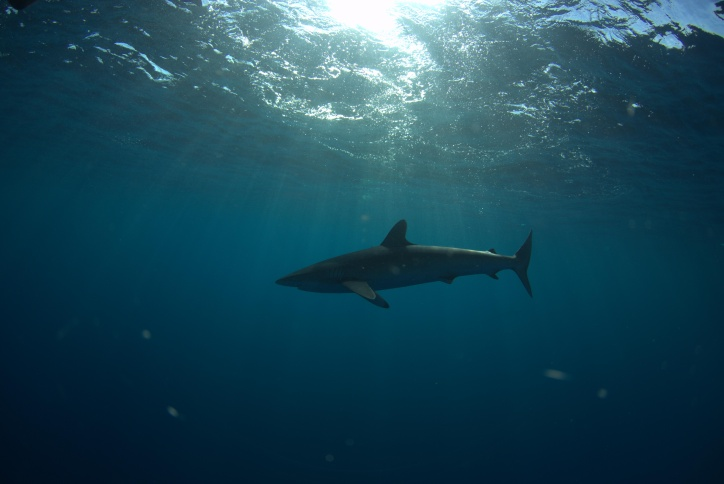Sedoso: (266, 216, 555, 320)
